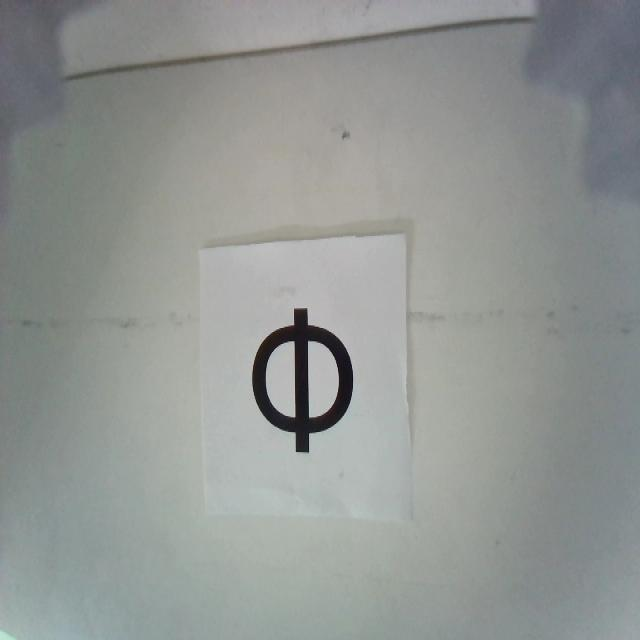F: (252, 309, 354, 453)
